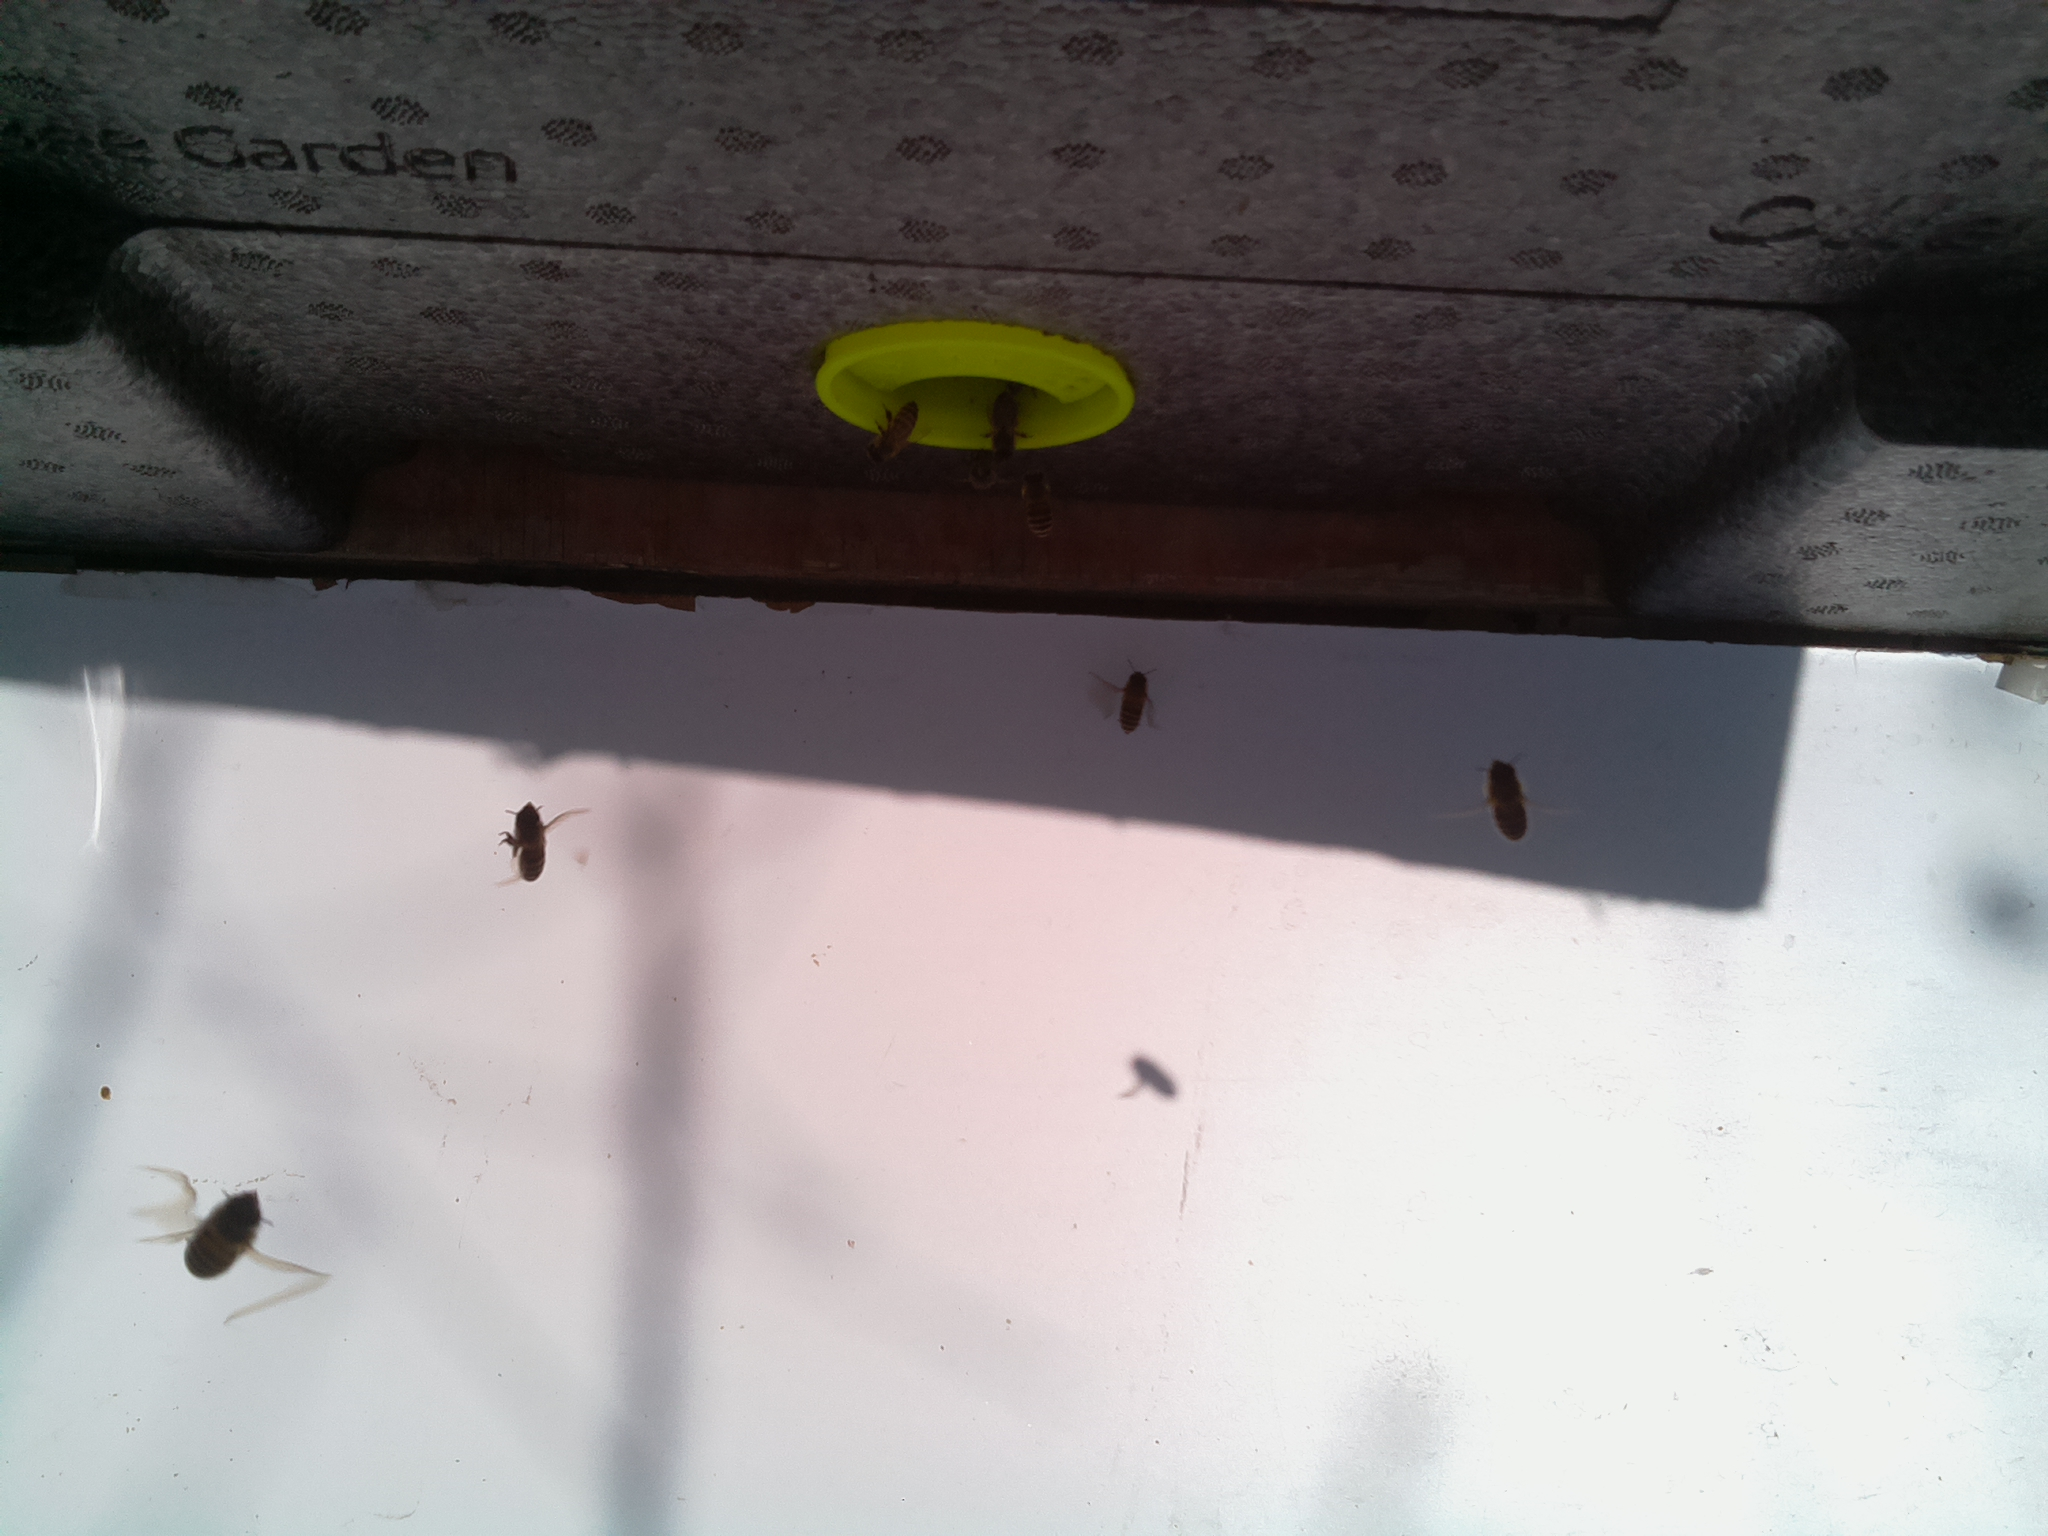bee: (177, 1186, 268, 1285), (506, 801, 552, 886), (1117, 670, 1149, 734)
